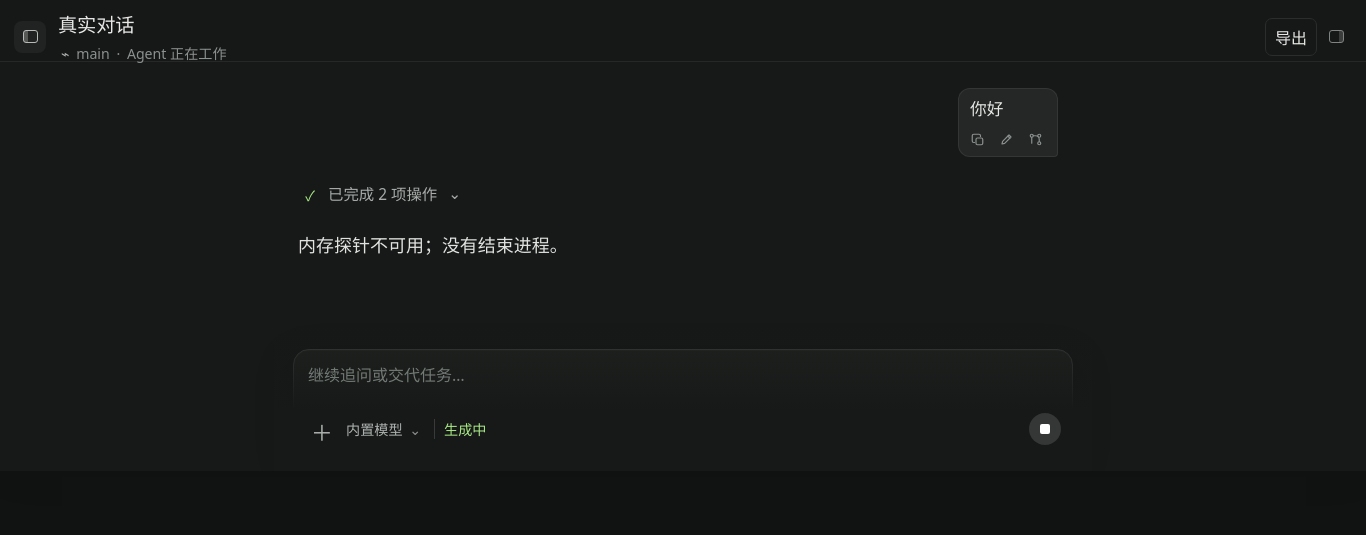
Test: conversation timeline projection › does not render an unavailable memory probe as zero available memory
Click the button "✓ 已完成 2 项操作 ⌄" at [384, 194], box x1=299 y1=177 x2=468 y2=210
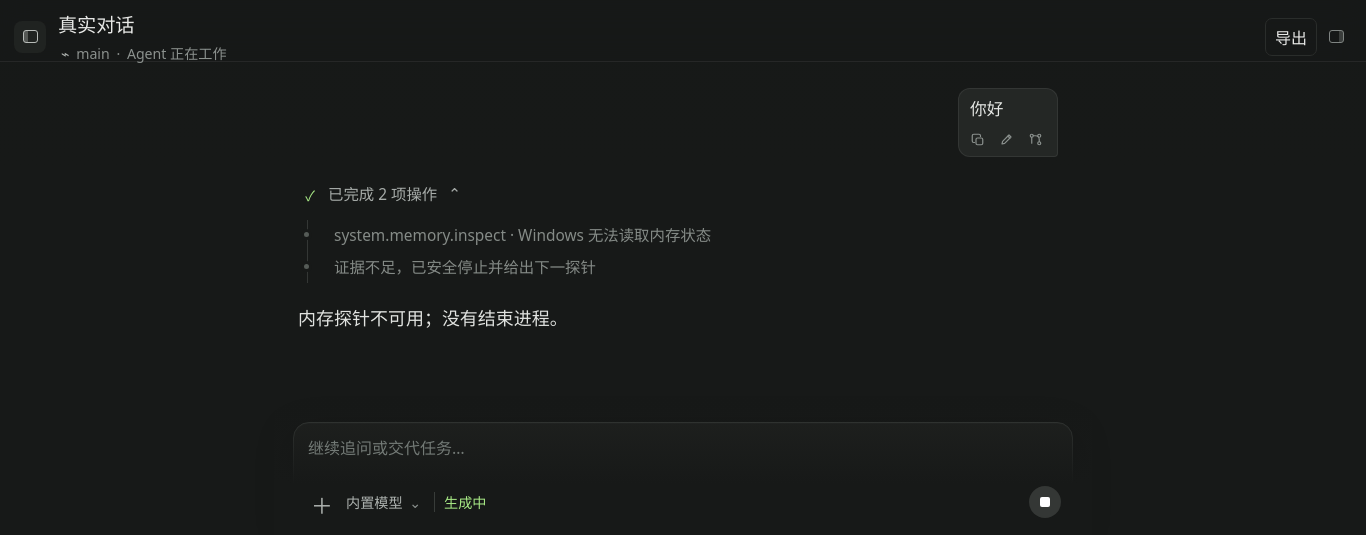
Expected: the text "system.memory.inspect · Windows 无法读取内存状态" is shown, x1=334 y1=225 x2=711 y2=246
